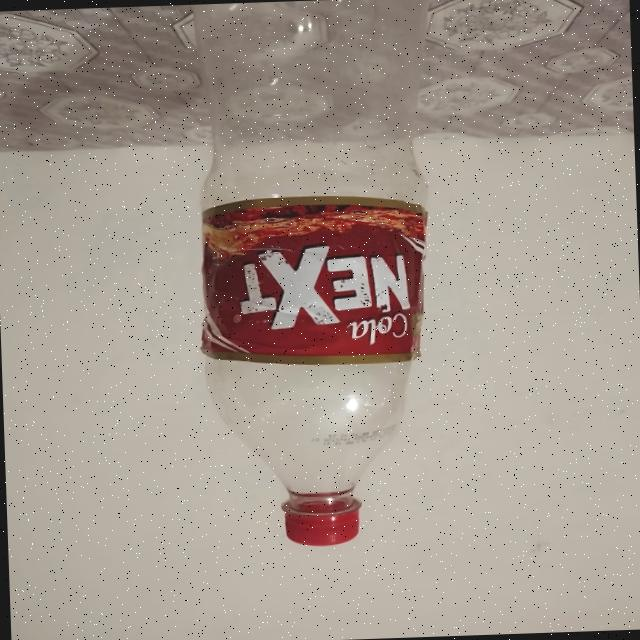bottle: (190, 0, 441, 549)
cap: (282, 509, 360, 547)
label: (199, 192, 434, 368)
